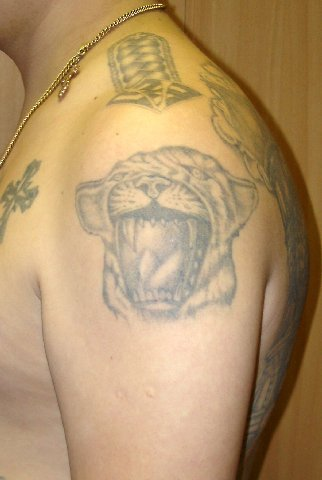tatu5_tigr: (67, 146, 262, 324)
tatu9_krest: (1, 156, 43, 249)
